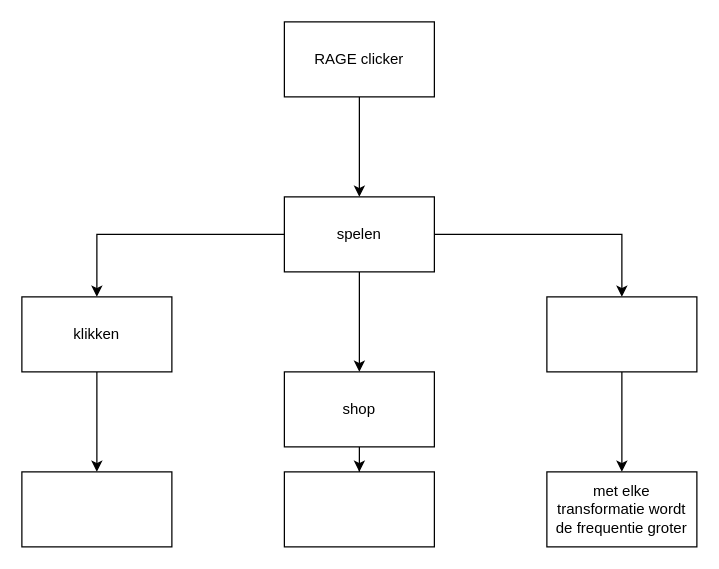
Some shapes in this 719 by 569 pixel diagram are drawn without their labels. The shapes that lost their labels are listed below. From the top down, each one's centre as x and y in pixels, then its label:
pixel 621 334: nieuwe transformatie
pixel 96 509: elke keer een hoger cijfer
pixel 358 509: items
